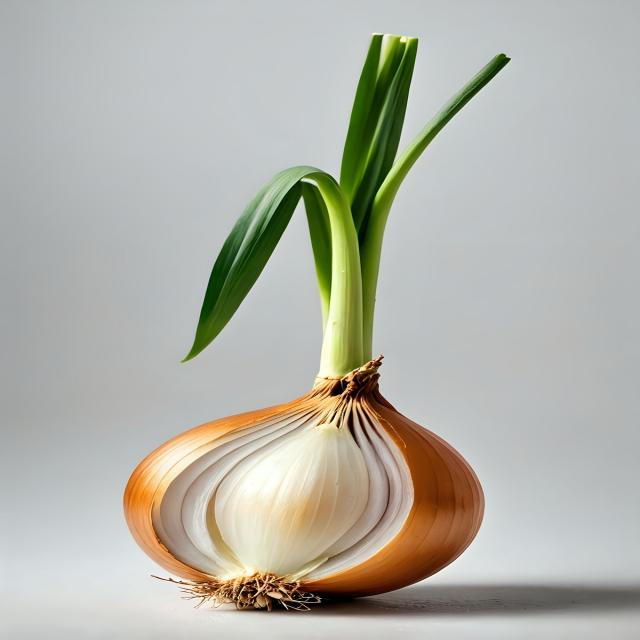sprouting: (107, 9, 552, 616), (85, 11, 593, 468)
